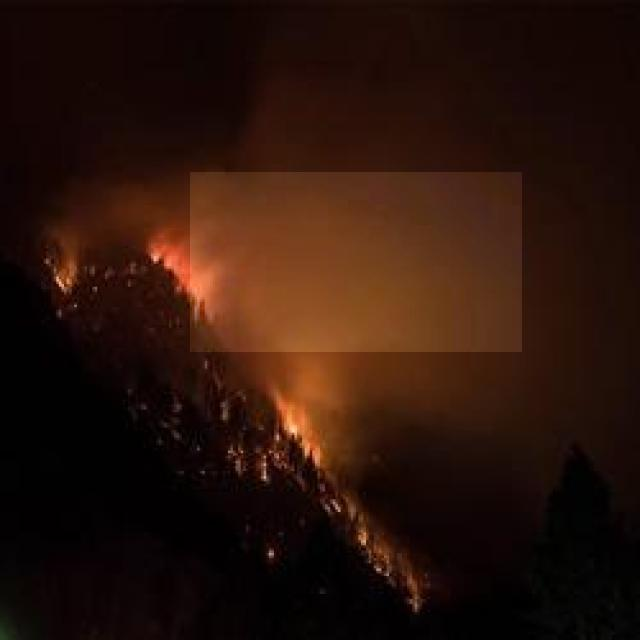Smoke: (190, 172, 522, 352)
